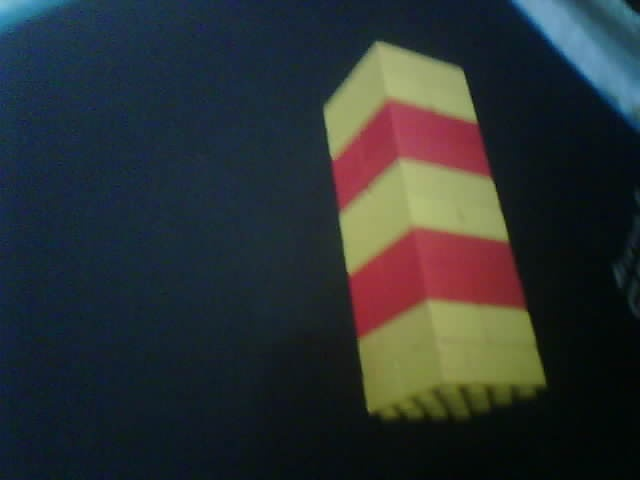lego: (320, 38, 548, 422)
